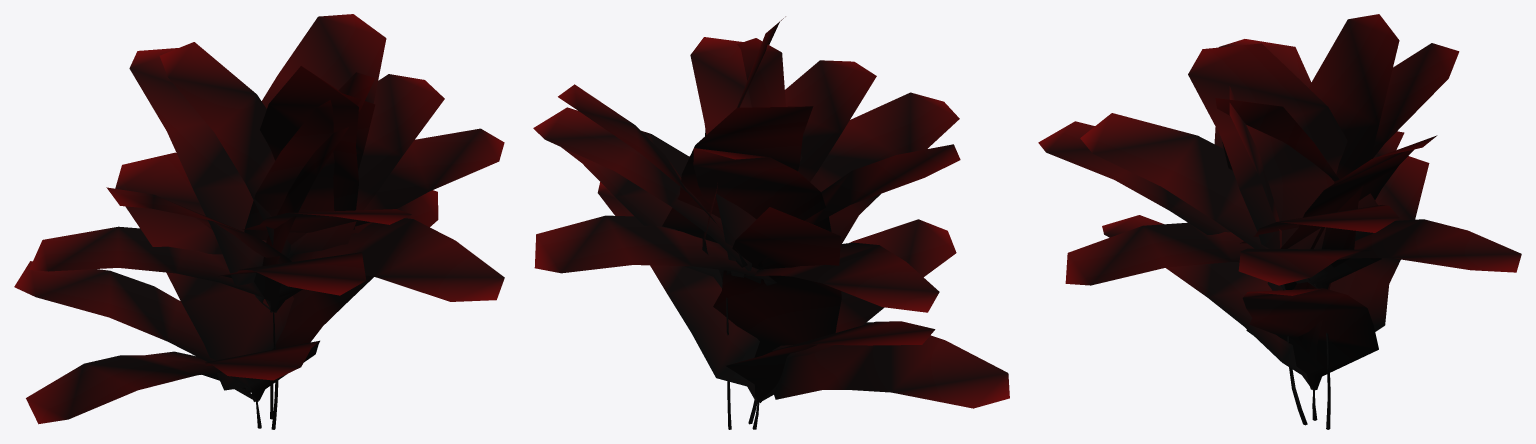
The model's file is Bush01B.fbx.
3 renders of one model, left to right at view 1: azimuth 30°, elevation 25°; view 2: azimuth 150°, elevation 25°; view 3: azimuth 270°, elevation 25°, orthographic. The views are drawn at different scales.
Parts seen in each view (by area): view 1: Bush01B; view 2: Bush01B; view 3: Bush01B.
Part boxes in pixels (bbox=[...]): Bush01B: bbox=[14, 14, 504, 429]; Bush01B: bbox=[533, 16, 1009, 429]; Bush01B: bbox=[1038, 14, 1521, 429].
Bounding box in the file's own units: 2.67 × 2.06 × 2.35.
